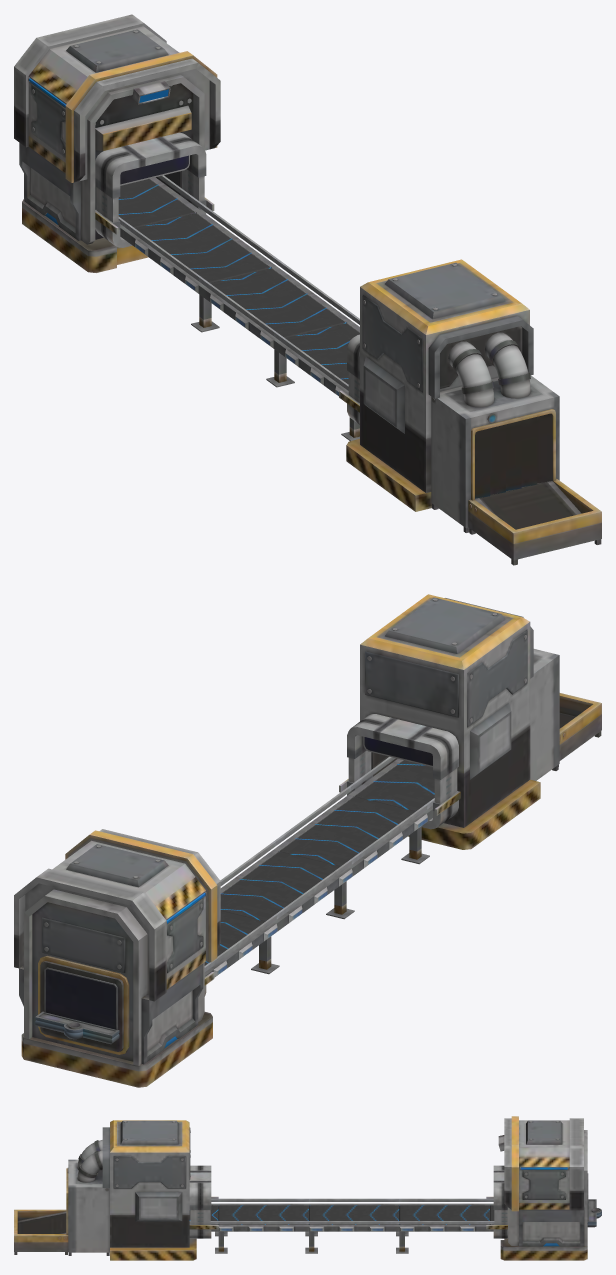
Rendered from SM_DismantlingConveyor_SM_DismantlingConveyor_c80eed.glb.
The picture shows the model from 3 angles, top to bottom: view 1: azimuth 30°, elevation 25°; view 2: azimuth 150°, elevation 25°; view 3: azimuth 270°, elevation 25°; orthographic projection. The views are drawn at different scales.
Size of the model in its own units: 2.8 by 3.41 by 16.24.
3 materials, 3 textured.
